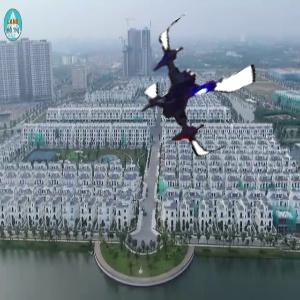drone: (127, 15, 270, 158)
